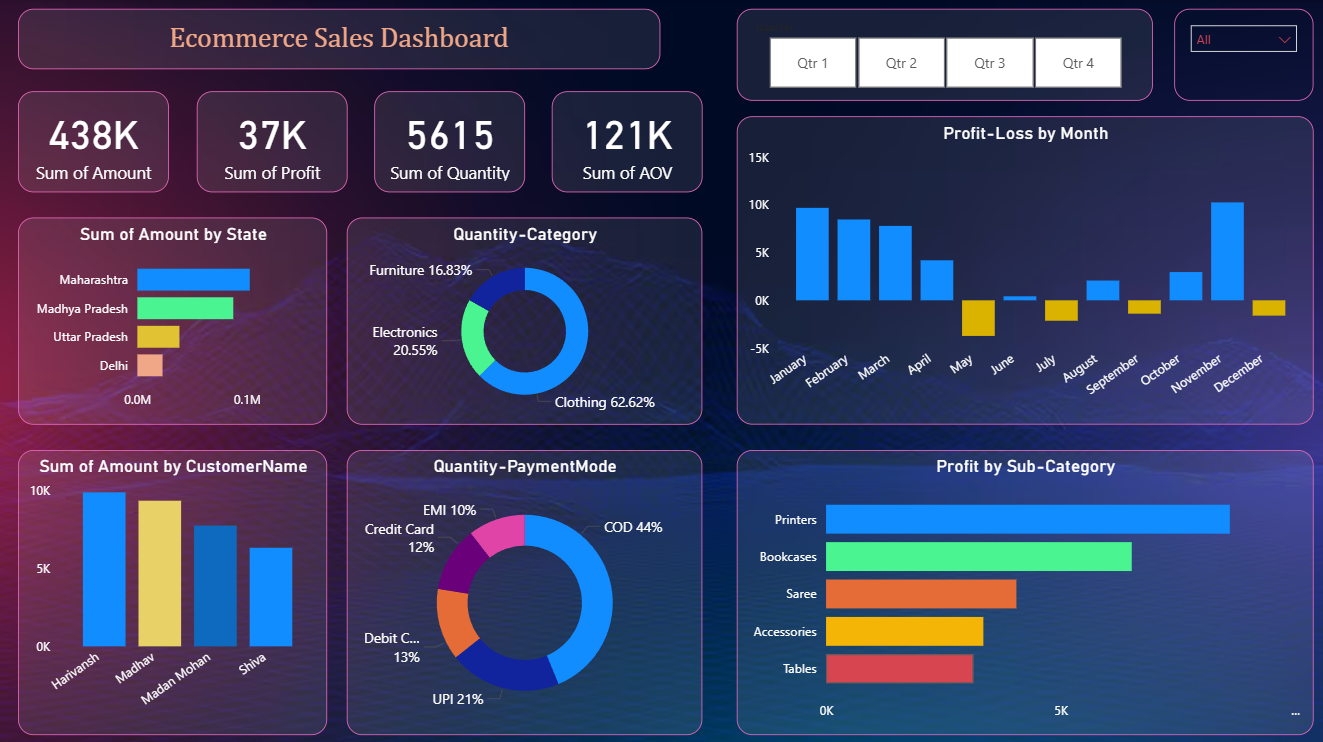

The dashboard page shown, as its layout file describes it:
{"tool":"powerbi","page":{"name":"Page 1","canvas":[1280,720],"ordinal":0},"visuals":[{"type":"textbox","box":[19.8,8.6,619.8,58],"z":0},{"type":"columnChart","title":"Profit-Loss by Month","fields":{"Y":["Details.Profit"],"Category":["Orders.Order Date.Variation.Date Hierarchy.Month"]},"box":[713.6,112.3,556.8,297.5],"z":1},{"type":"barChart","title":"Profit by Sub-Category","fields":{"Category":["Details.Sub-Category"],"Y":["Details.Profit"]},"box":[713.6,434.6,556.8,275.3],"z":2},{"type":"donutChart","title":"Quantity-Category","fields":{"Category":["Details.Category"],"Y":["Details.Quantity"]},"box":[337,209.9,343.2,200],"z":3},{"type":"donutChart","title":"Quantity-PaymentMode","fields":{"Y":["Details.Quantity"],"Category":["Details.PaymentMode"]},"box":[337,434.6,343.2,275.3],"z":4},{"type":"card","fields":{"Values":["Details.Amount"]},"box":[19.8,87.7,145.7,97.5],"z":5},{"type":"card","fields":{"Values":["Details.Profit"]},"box":[191.4,87.7,145.7,97.5],"z":6},{"type":"card","fields":{"Values":["Details.Quantity"]},"box":[363,87.7,145.7,97.5],"z":7},{"type":"card","fields":{"Values":["Details.AOV"]},"box":[534.6,87.7,145.7,97.5],"z":8},{"type":"barChart","fields":{"Category":["Orders.State"],"Y":["Details.Amount"]},"box":[19.8,209.9,298.8,200],"z":9},{"type":"columnChart","fields":{"Category":["Orders.CustomerName"],"Y":["Details.Amount"]},"box":[19.8,434.6,298.8,275.3],"z":10},{"type":"slicer","fields":{"Values":["Orders.Order Date.Variation.Date Hierarchy.Quarter"]},"box":[713.6,8.6,401.2,88.9],"z":11},{"type":"slicer","fields":{"Values":["Orders.State"]},"box":[1135.8,8.6,134.6,88.9],"z":12}]}

Visuals, with their boxes in screenshot pixels (x1, y1, x2, y2), scaled from the page's 1280x720 canvas onto the 1323x742 screenshot:
textbox: locate(20, 9, 661, 69)
"Profit-Loss by Month" columnChart: locate(738, 116, 1313, 422)
"Profit by Sub-Category" barChart: locate(738, 448, 1313, 732)
"Quantity-Category" donutChart: locate(348, 216, 703, 422)
"Quantity-PaymentMode" donutChart: locate(348, 448, 703, 732)
card - Details.Amount: locate(20, 90, 171, 191)
card - Details.Profit: locate(198, 90, 348, 191)
card - Details.Quantity: locate(375, 90, 526, 191)
card - Details.AOV: locate(553, 90, 703, 191)
barChart - Orders.State x Details.Amount: locate(20, 216, 329, 422)
columnChart - Orders.CustomerName x Details.Amount: locate(20, 448, 329, 732)
slicer - Orders.Order Date.Variation.Date Hierarchy.Quarter: locate(738, 9, 1152, 100)
slicer - Orders.State: locate(1174, 9, 1313, 100)
